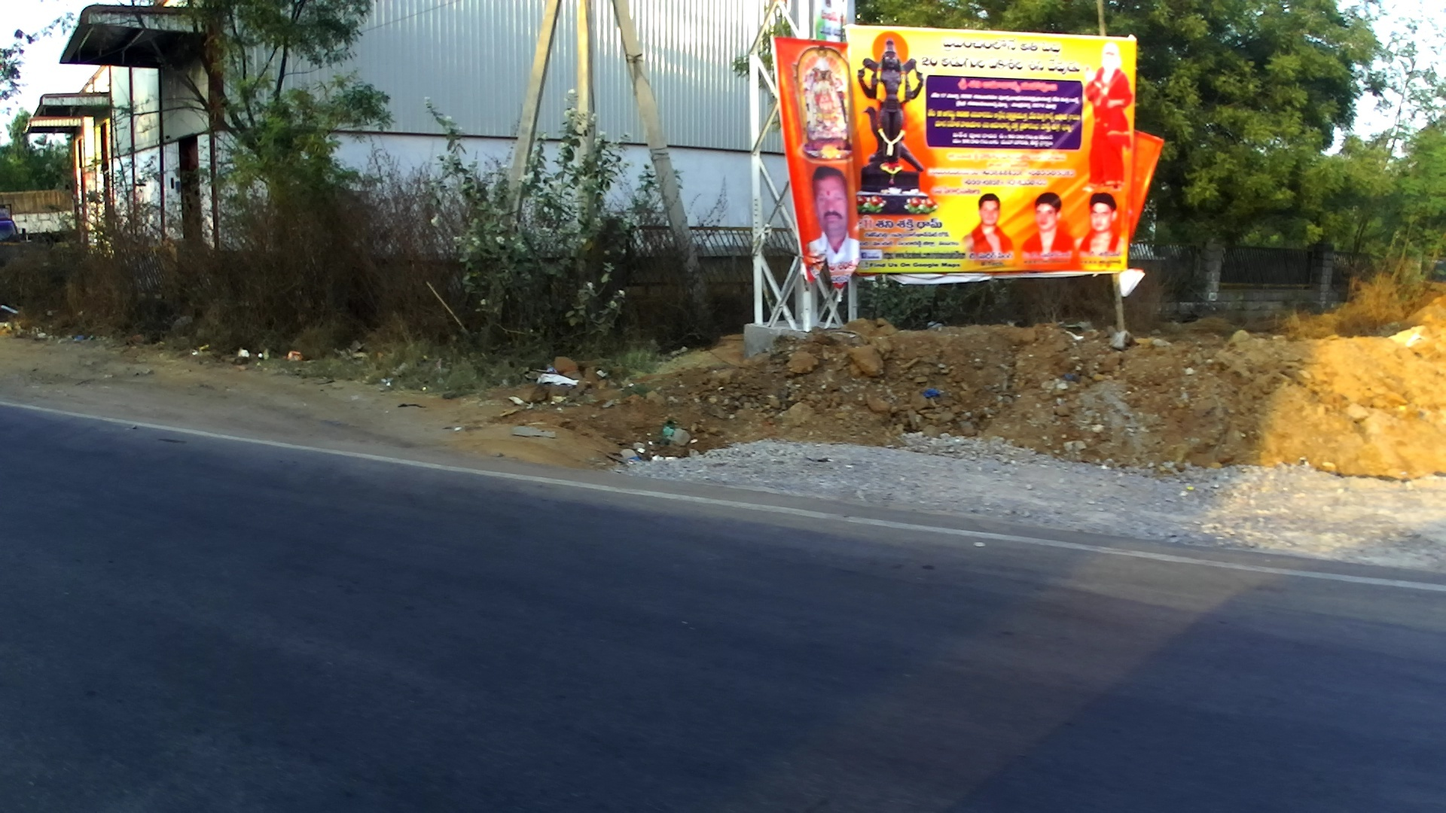vehicle fallback: (0, 198, 19, 251)
